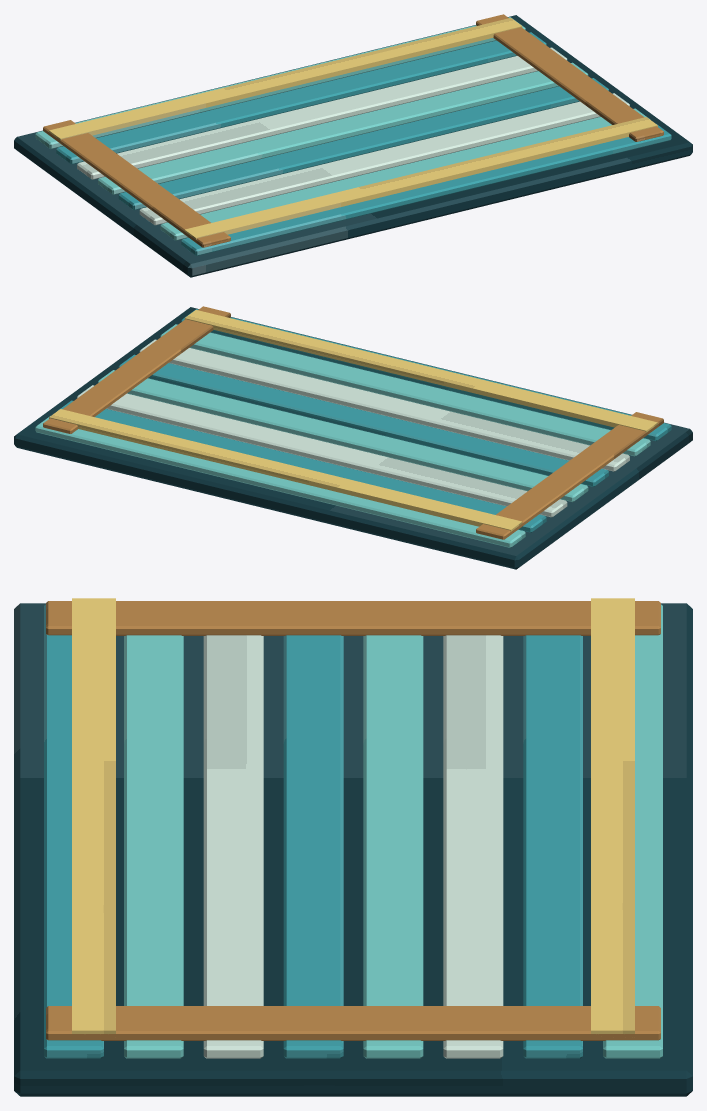
Rendered from beach_mat_teal.glb.
3 renders of one model, top to bottom at view 1: azimuth 30°, elevation 25°; view 2: azimuth 150°, elevation 25°; view 3: azimuth 270°, elevation 25°, orthographic. The views are drawn at different scales.
Visible parts, largest first — view 1: TextileBase, BeachSlat_2, BeachSlat_5, BeachSlat_3, BeachSlat_4, BeachSlat_6, BeachTie_0.32499999999999996, BeachTie_-0.32499999999999996, BeachSlat_0, BeachSlat_1, BeachEdge_-0.6, BeachEdge_0.6 (+1 smaller); view 2: TextileBase, BeachSlat_5, BeachSlat_2, BeachSlat_4, BeachSlat_1, BeachSlat_3, BeachTie_-0.32499999999999996, BeachTie_0.32499999999999996, BeachSlat_7, BeachSlat_6, BeachEdge_-0.6, BeachEdge_0.6 (+1 smaller); view 3: TextileBase, BeachSlat_2, BeachSlat_5, BeachSlat_3, BeachSlat_4, BeachSlat_1, BeachSlat_6, BeachTie_0.32499999999999996, BeachTie_-0.32499999999999996, BeachEdge_0.6, BeachEdge_-0.6, BeachSlat_0 (+1 smaller).
Part boxes in pixels (<box>): TextileBase: <box>14,15,692,277</box>; BeachSlat_2: <box>139,93,629,225</box>; BeachSlat_5: <box>77,47,567,179</box>; BeachSlat_3: <box>118,78,608,210</box>; BeachSlat_4: <box>98,62,588,194</box>; BeachSlat_6: <box>56,32,546,164</box>; BeachTie_0.32499999999999996: <box>49,18,522,140</box>; BeachTie_-0.32499999999999996: <box>184,117,657,239</box>; BeachSlat_0: <box>181,124,671,255</box>; BeachSlat_1: <box>160,108,650,240</box>; BeachEdge_-0.6: <box>43,120,230,247</box>; BeachEdge_0.6: <box>476,14,663,141</box>; TextileBase: <box>14,307,692,569</box>; BeachSlat_5: <box>77,385,567,517</box>; BeachSlat_2: <box>139,339,629,471</box>; BeachSlat_4: <box>98,370,588,502</box>; BeachSlat_1: <box>160,324,650,456</box>; BeachSlat_3: <box>118,354,608,486</box>; BeachTie_-0.32499999999999996: <box>184,310,657,432</box>; BeachTie_0.32499999999999996: <box>49,409,522,531</box>; BeachSlat_7: <box>35,416,525,547</box>; BeachSlat_6: <box>56,400,546,532</box>; BeachEdge_-0.6: <box>476,412,663,539</box>; BeachEdge_0.6: <box>43,306,230,433</box>; TextileBase: <box>14,603,692,1096</box>; BeachSlat_2: <box>203,635,263,1058</box>; BeachSlat_5: <box>443,635,503,1058</box>; BeachSlat_3: <box>283,635,343,1058</box>; BeachSlat_4: <box>363,635,423,1058</box>; BeachSlat_1: <box>124,635,183,1058</box>; BeachSlat_6: <box>523,635,582,1058</box>; BeachTie_0.32499999999999996: <box>591,598,634,1033</box>; BeachTie_-0.32499999999999996: <box>72,598,115,1033</box>; BeachEdge_0.6: <box>46,1006,660,1040</box>; BeachEdge_-0.6: <box>46,601,660,635</box>; BeachSlat_0: <box>44,604,103,1058</box>.
Size of the model in its own units: 1.4 by 0.067 by 0.85.
Materials: 1 (1 with a texture image).
